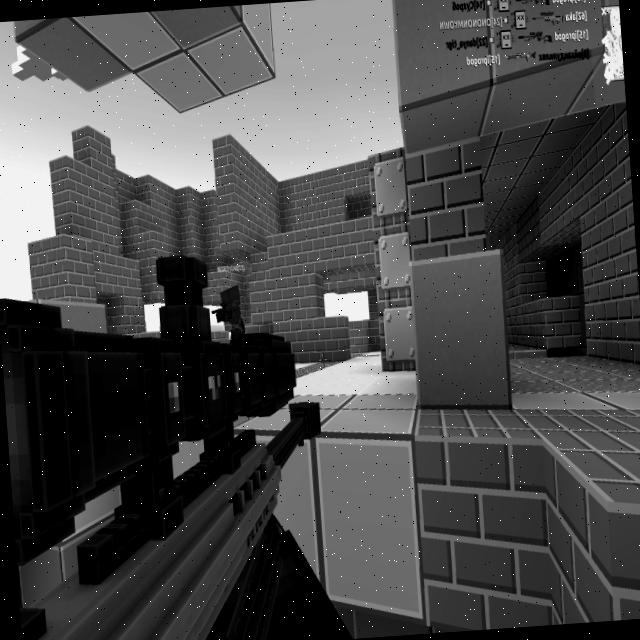Head: (218, 284, 243, 312)
Player: (216, 282, 247, 343)
